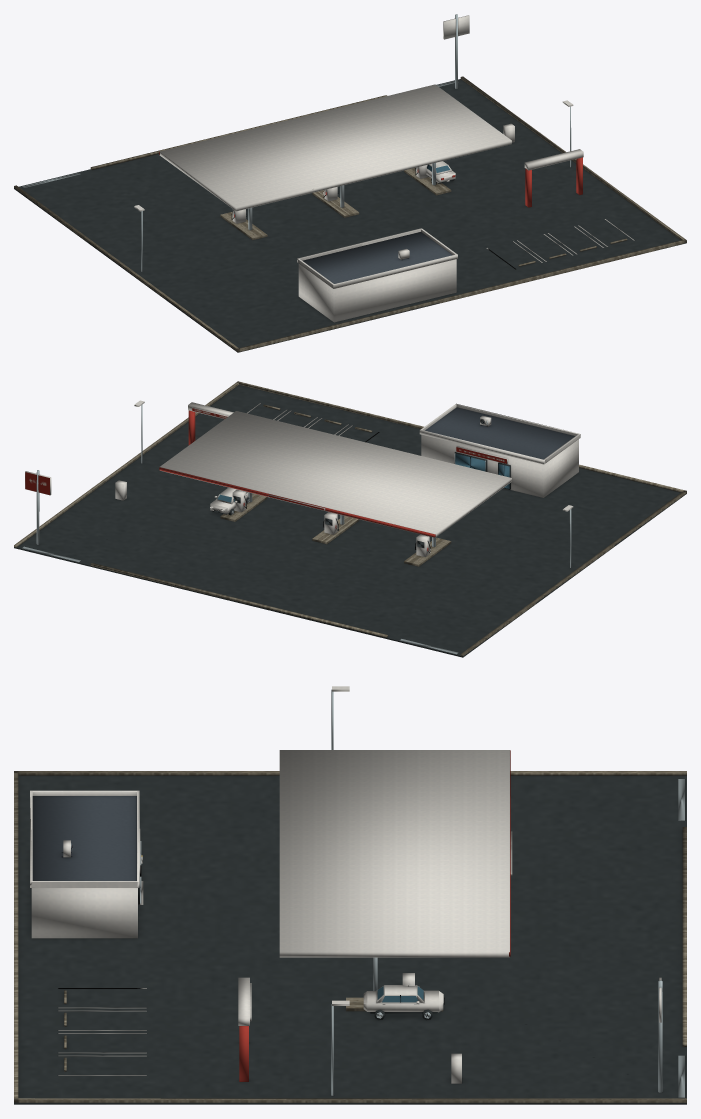
Rendered from fuel_roadside_001.obj.
The picture shows the model from 3 angles, top to bottom: view 1: azimuth 30°, elevation 25°; view 2: azimuth 150°, elevation 25°; view 3: azimuth 270°, elevation 25°; orthographic projection. The views are drawn at different scales.
Visible parts, largest first — view 1: fuel_roadside_001; view 2: fuel_roadside_001; view 3: fuel_roadside_001.
Part boxes in pixels (x1,y1,x2,y2): fuel_roadside_001: (14,14,686,352); fuel_roadside_001: (14,381,686,657); fuel_roadside_001: (14,686,686,1104).
Size of the model in its own units: 44 by 7 by 38.
Materials: 1 (1 with a texture image).
